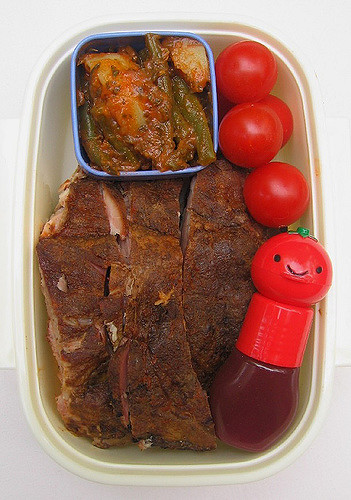meatballs: (117, 193, 235, 310)
